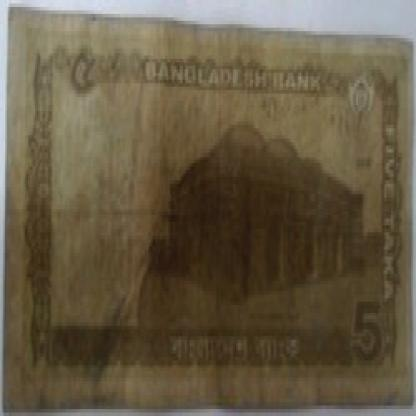Five Taka: (351, 291, 386, 378), (65, 45, 100, 104)
